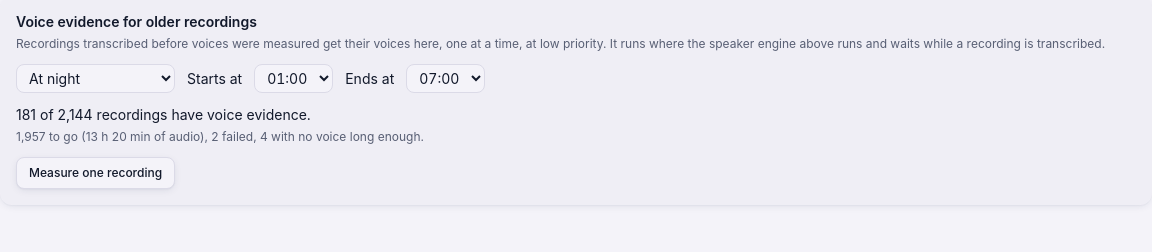
Test: VoiceBackfillPanel › says why a measurement failed
Check: the text "181 of 2,144 recordings have voice evidence." is shown, box [16,106,311,123]
Click the button "Measure one recording": coordinates (96, 173) [16,157,175,189]
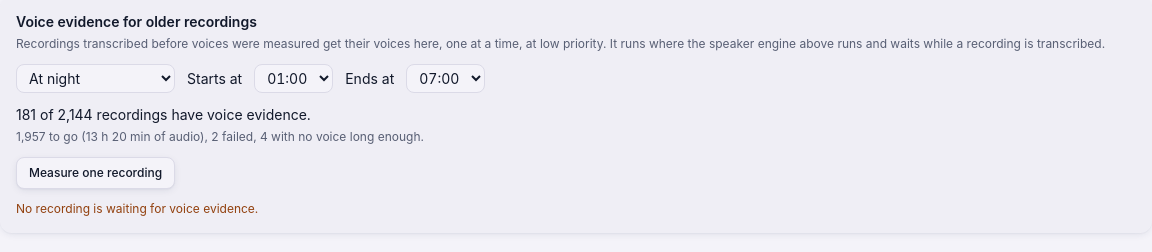
Check: the message reads "No recording is waiting for voice evidence.", box [16,201,258,216]
